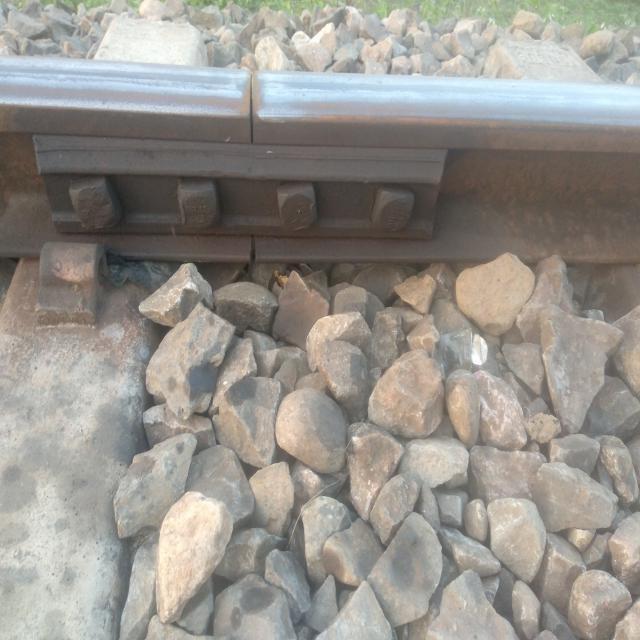obstacle: (10, 239, 128, 332)
